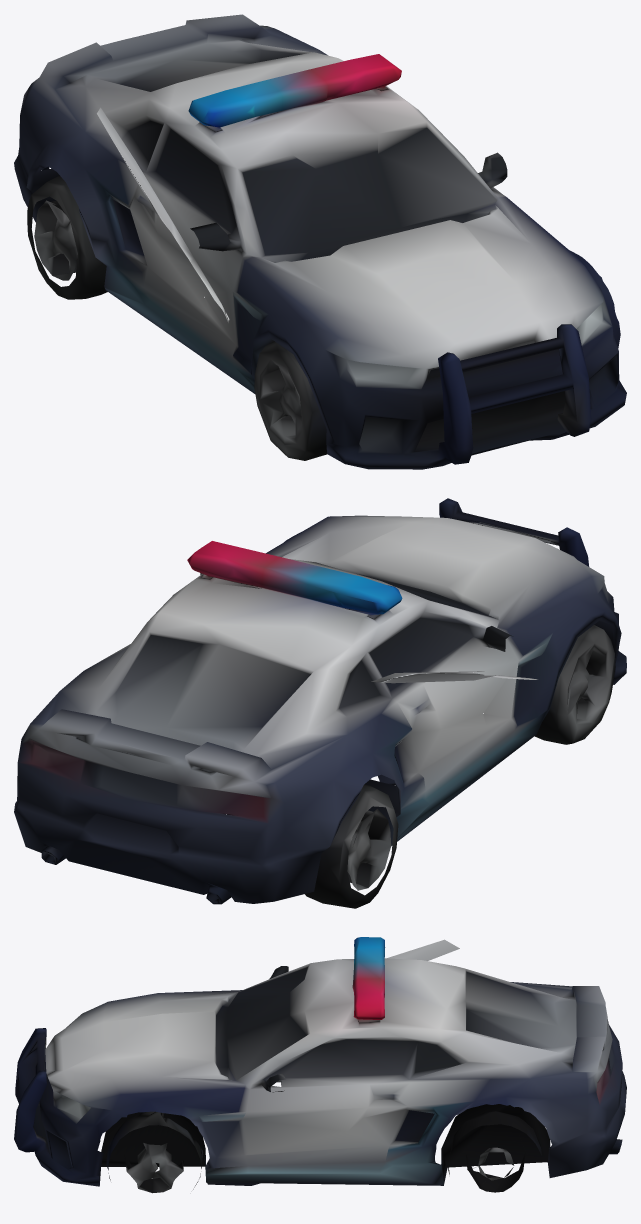
Rendered from police_coupe_lo.glb.
3 renders of one model, top to bottom at view 1: azimuth 30°, elevation 25°; view 2: azimuth 150°, elevation 25°; view 3: azimuth 270°, elevation 25°, orthographic. The views are drawn at different scales.
Parts seen in each view (by area): view 1: car; view 2: car; view 3: car.
Boxes of the visible parts, x1,y1,x2,y2 form: car: (14,14,626,469); car: (14,498,626,908); car: (14,937,626,1193).
Size of the model in its own units: 2.2 by 1.65 by 4.94.
